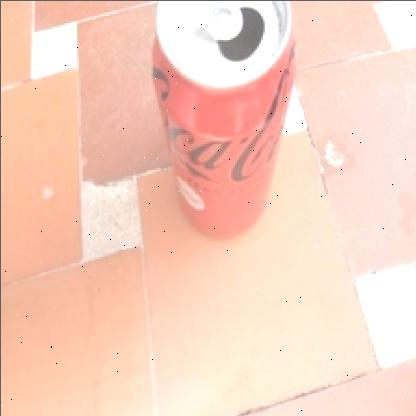Can: (148, 0, 298, 237)
